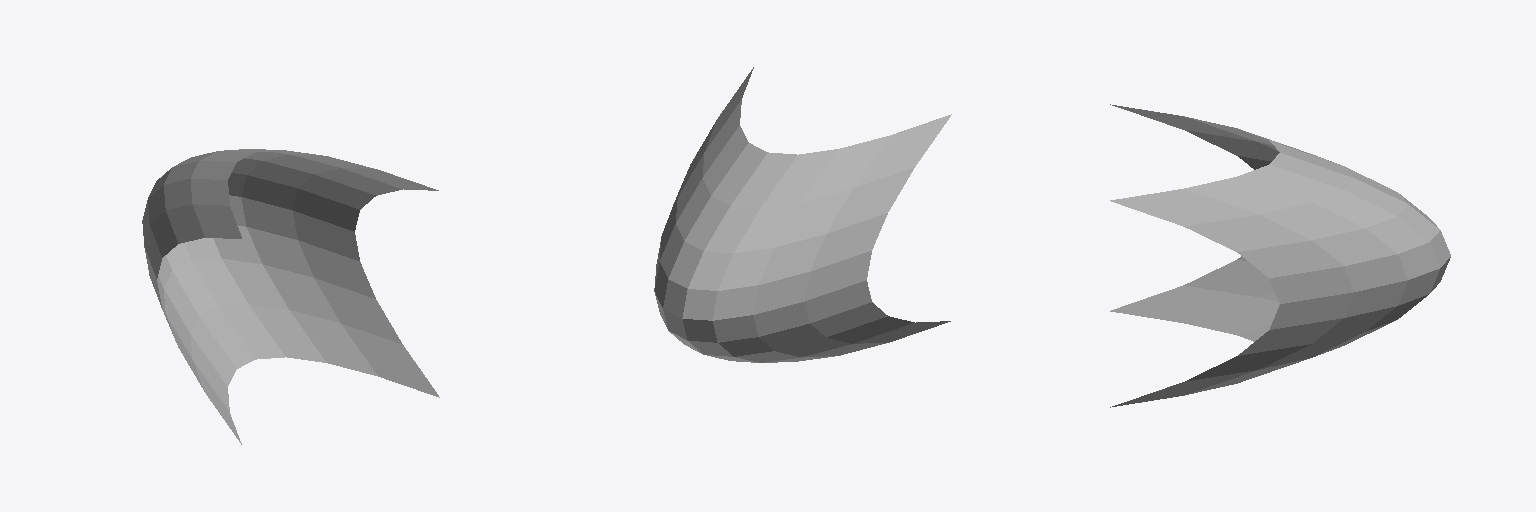
The model's file is elliptic_paraboloid.obj.
The picture shows the model from 3 angles: view 1: azimuth 30°, elevation 25°; view 2: azimuth 150°, elevation 25°; view 3: azimuth 270°, elevation 25°; orthographic projection.
Bounding box in the file's own units: 3 × 3 × 4.5.